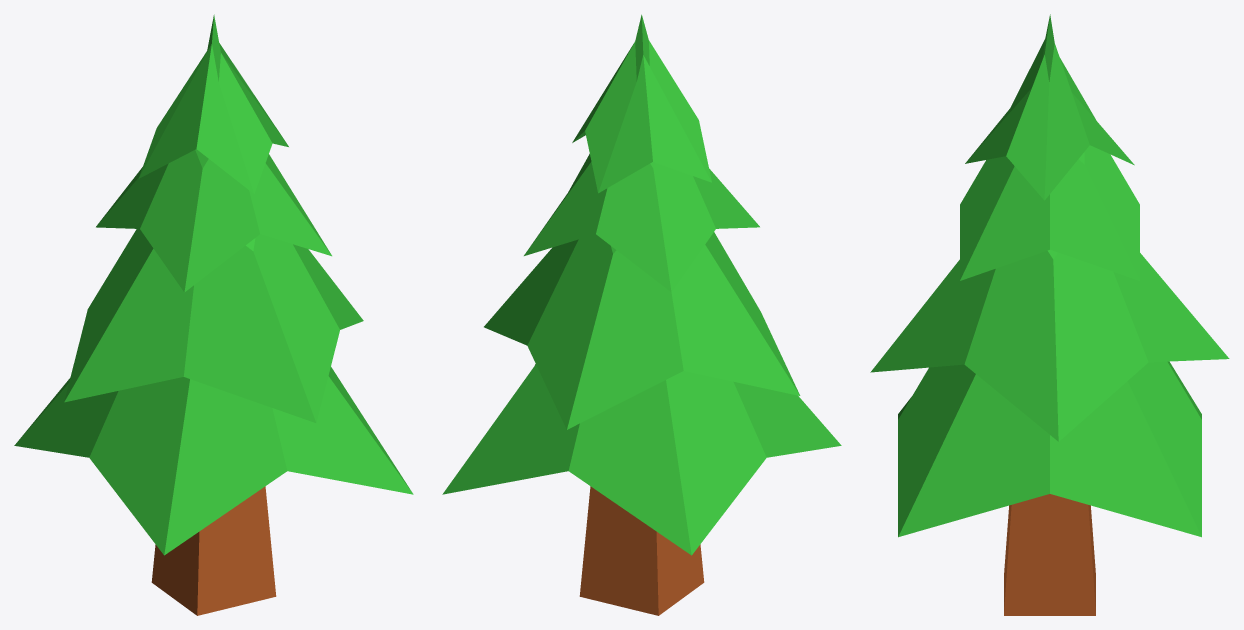
The model's file is grannyTree2.fbx.
3 renders of one model, left to right at view 1: azimuth 30°, elevation 25°; view 2: azimuth 150°, elevation 25°; view 3: azimuth 270°, elevation 25°, orthographic.
Parts seen in each view (by area): view 1: treetop2.002, treetop1.001, treetop3.002, treetop4.002, trunk.002; view 2: treetop1.001, treetop2.002, treetop3.002, treetop4.002, trunk.002; view 3: treetop1.001, treetop2.002, treetop3.002, treetop4.002, trunk.002.
Part boxes in pixels (x1,y1,x2,y2): treetop2.002: (64,229,363,423); treetop1.001: (14,367,413,555); treetop3.002: (96,149,331,292); treetop4.002: (138,14,288,194); trunk.002: (151,486,276,615); treetop1.001: (442,364,841,555); treetop2.002: (484,232,800,429); treetop3.002: (524,154,759,292); treetop4.002: (572,14,711,193); trunk.002: (579,486,704,615); treetop1.001: (898,361,1201,537); treetop2.002: (870,250,1229,441); treetop3.002: (960,145,1139,280); treetop4.002: (965,14,1134,200); trunk.002: (1004,494,1095,615).
Bounding box in the file's own units: 781 × 1393 × 779.
